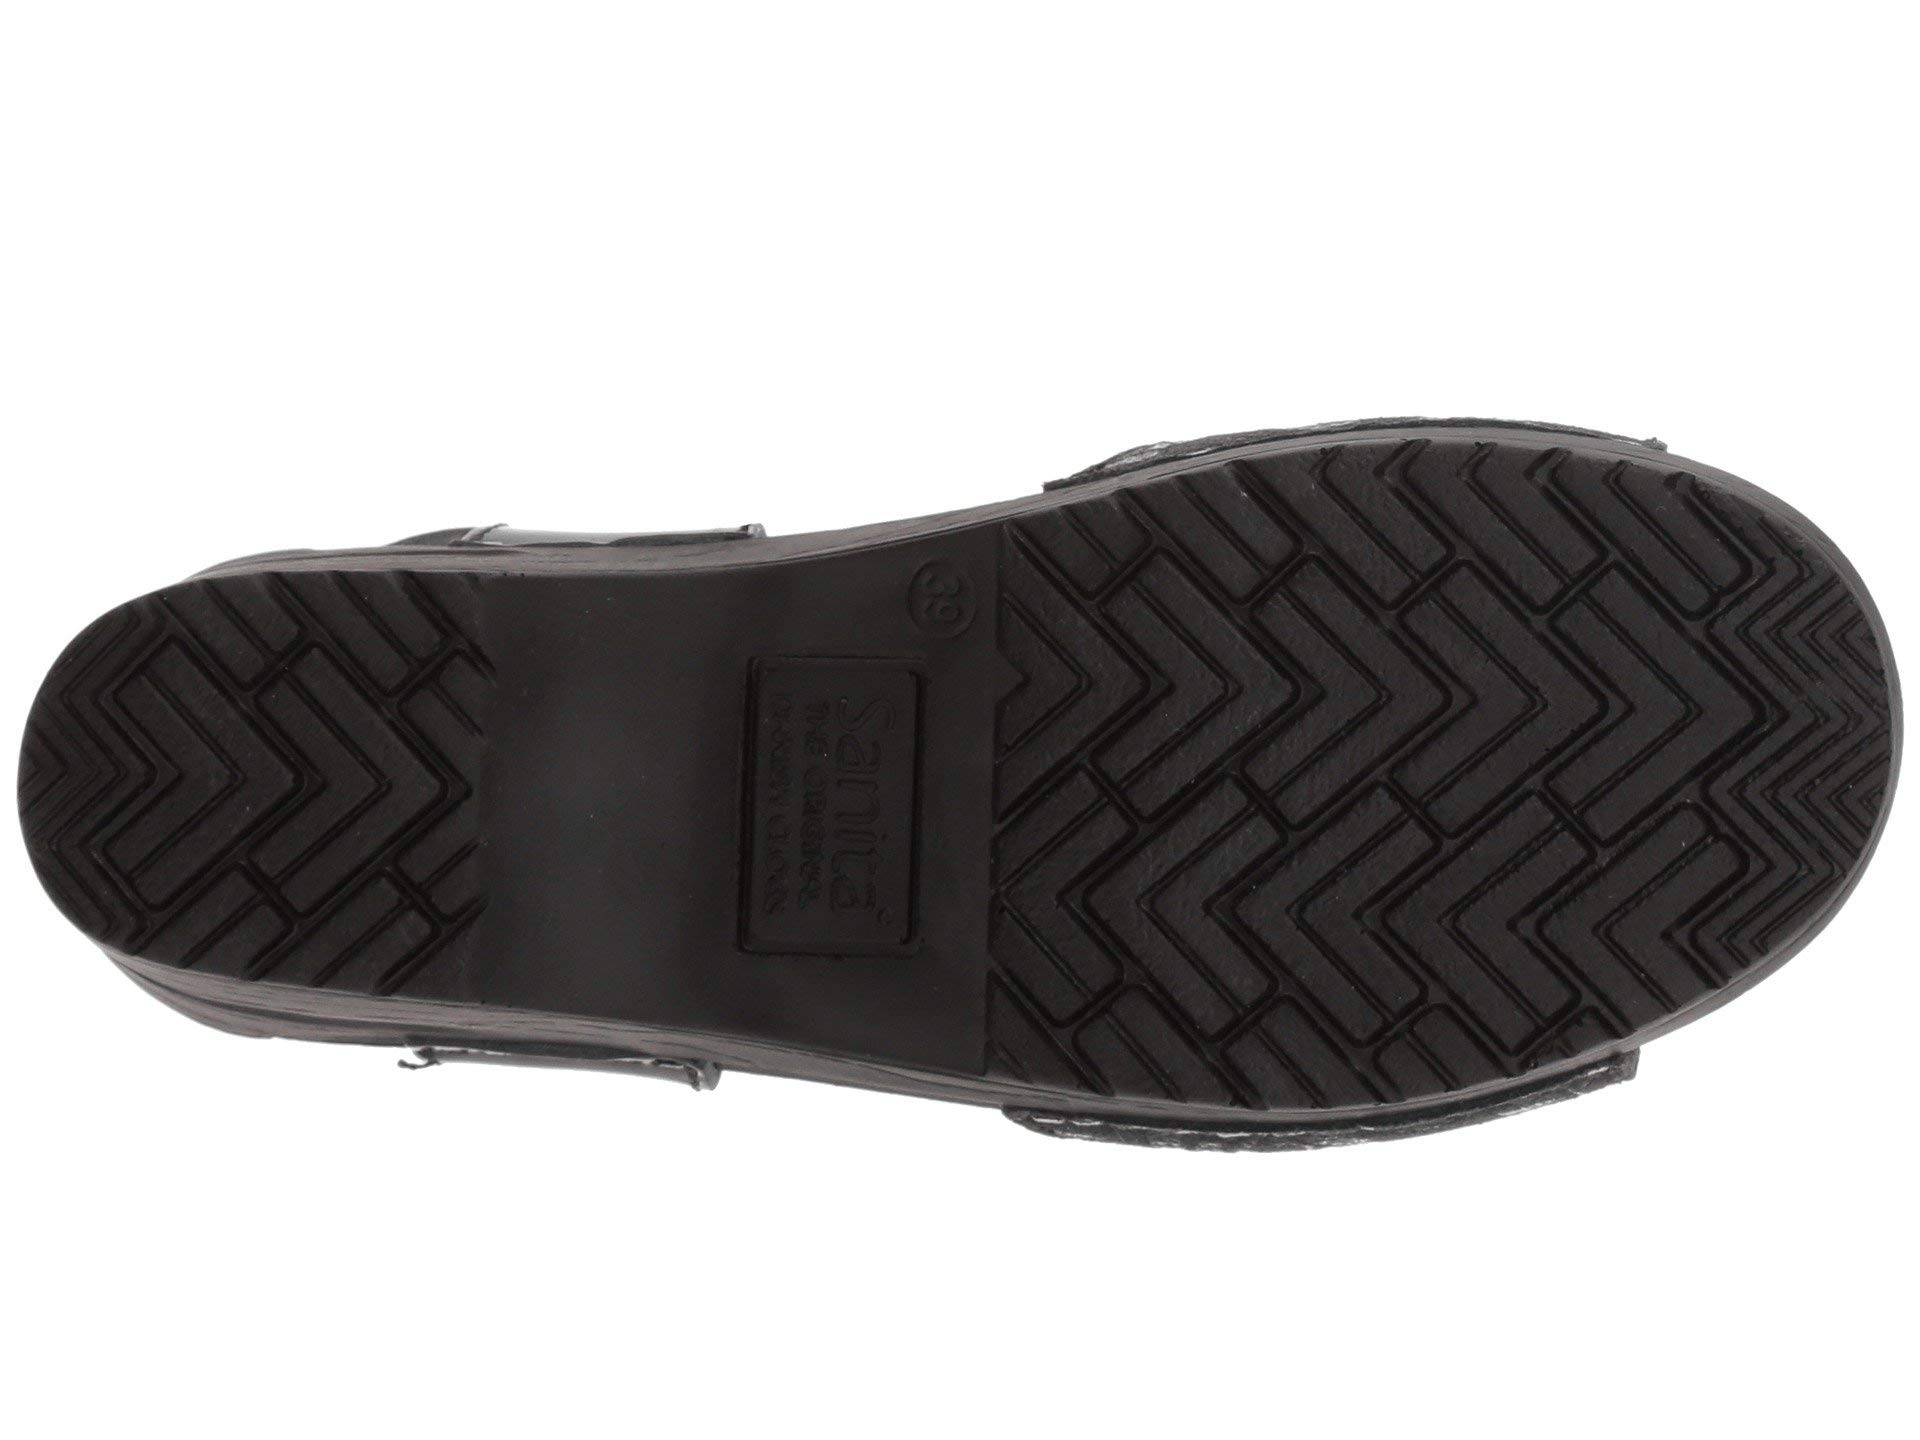chevron: (1069, 529, 1486, 967), (1503, 499, 1853, 858), (107, 634, 466, 982)
circle: (860, 532, 996, 669)
quad: (691, 619, 963, 1001)
text: (691, 619, 963, 1001), (860, 532, 996, 669)
